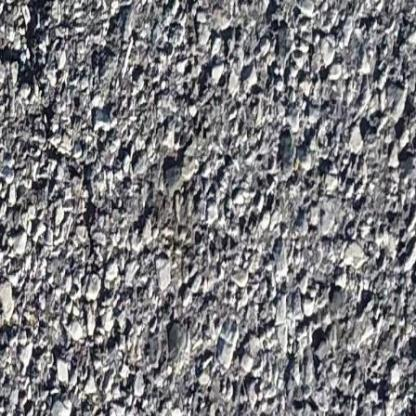Cracks: (0, 0, 107, 278)
